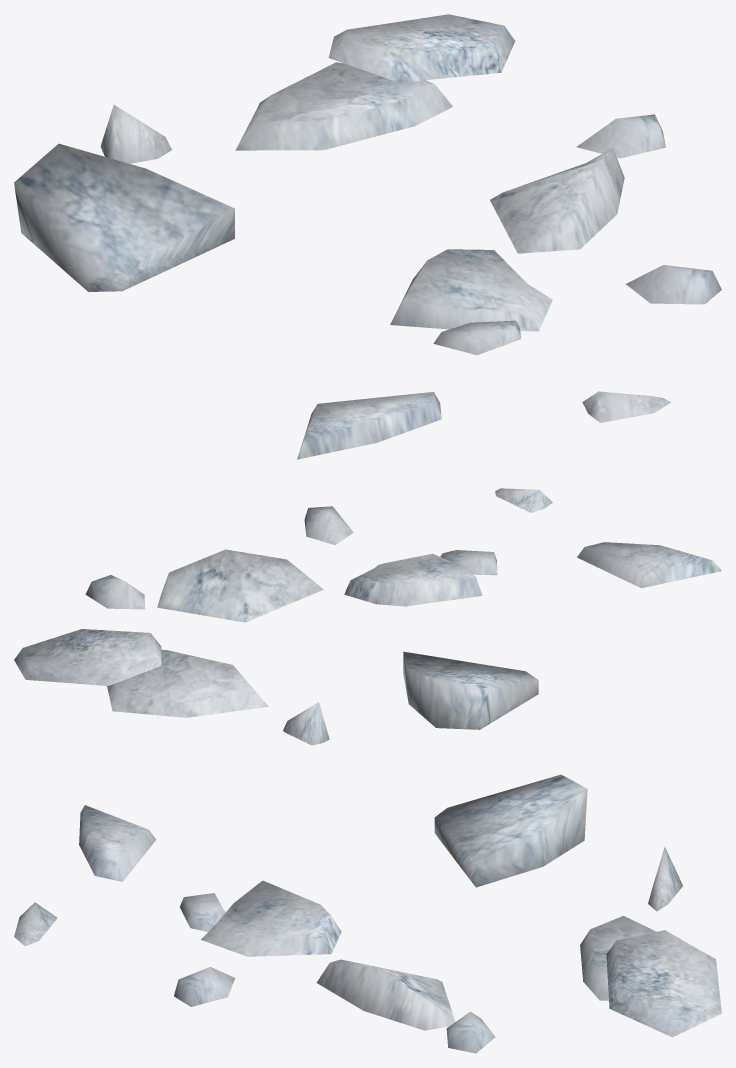
The model's file is Snow_Stone01.FBX.
The picture shows the model from 3 angles, top to bottom: view 1: azimuth 30°, elevation 25°; view 2: azimuth 150°, elevation 25°; view 3: azimuth 270°, elevation 25°; orthographic projection. The views are drawn at different scales.
Visible parts, largest first — view 1: Snow_Stone01; view 2: Snow_Stone01; view 3: Snow_Stone01.
Boxes of the visible parts, x1=… form: Snow_Stone01: x1=14, y1=14, x2=721, y2=459; Snow_Stone01: x1=14, y1=488, x2=721, y2=745; Snow_Stone01: x1=14, y1=774, x2=721, y2=1053.
Bounding box in the file's own units: 299 × 35.58 × 373.
